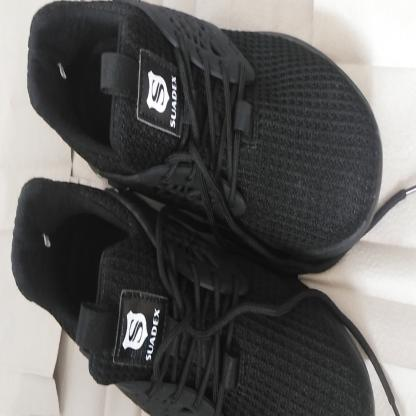safety-shoe: (10, 0, 379, 414)
